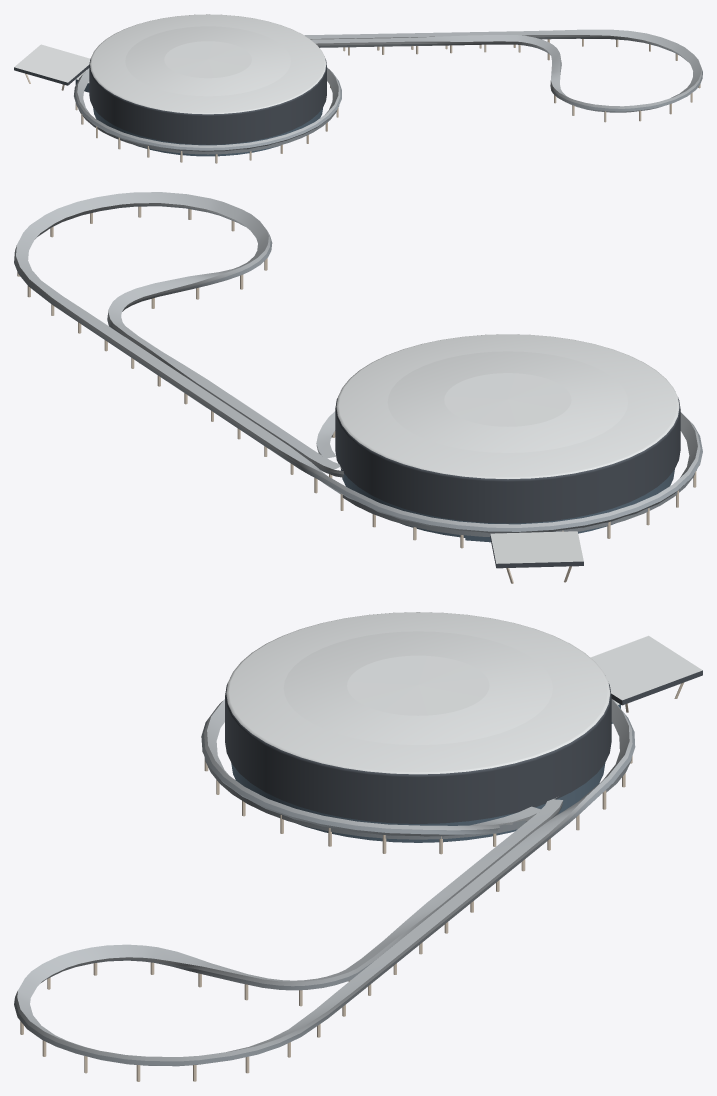
The model's file is detail.glb.
The picture shows the model from 3 angles, top to bottom: view 1: azimuth 30°, elevation 25°; view 2: azimuth 150°, elevation 25°; view 3: azimuth 270°, elevation 25°; orthographic projection. The views are drawn at different scales.
Parts seen in each view (by area): view 1: test-track-walt-disney-world; view 2: test-track-walt-disney-world; view 3: test-track-walt-disney-world.
Boxes of the visible parts, x1,y1,x2,y2 form: test-track-walt-disney-world: (14,14,702,163); test-track-walt-disney-world: (14,192,702,583); test-track-walt-disney-world: (14,612,702,1081).
Bounding box in the file's own units: 250 × 22 × 174.
